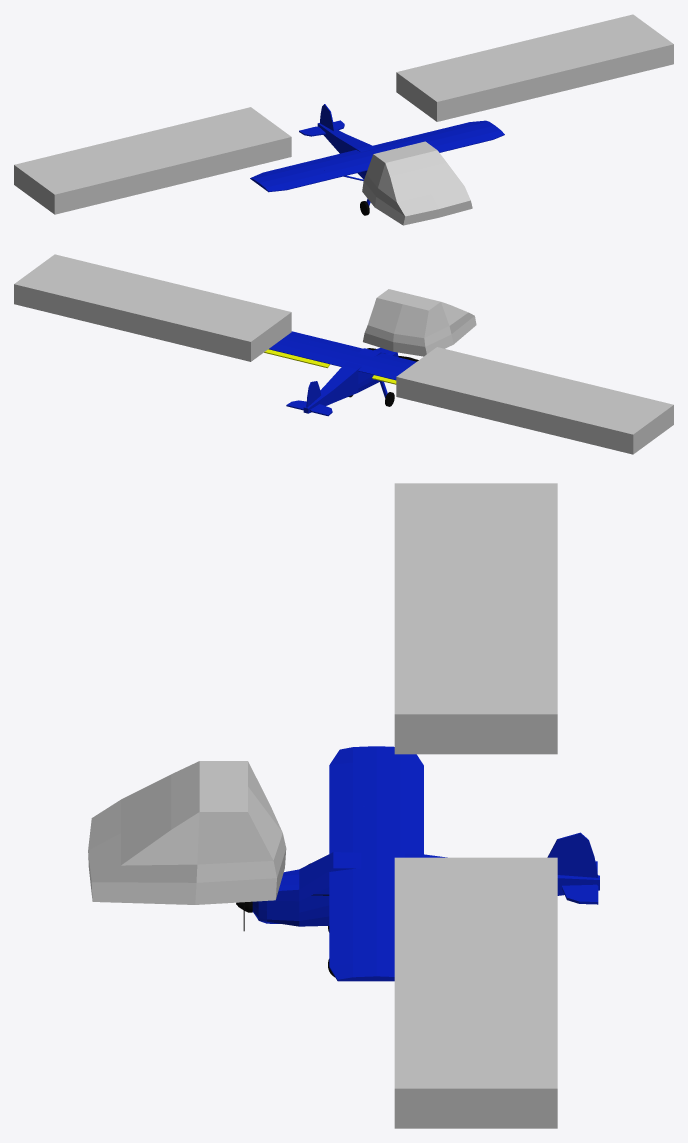
3 renders of one model, top to bottom at view 1: azimuth 30°, elevation 25°; view 2: azimuth 150°, elevation 25°; view 3: azimuth 270°, elevation 25°, orthographic. The views are drawn at different scales.
Parts seen in each view (by area): view 1: 立方体.014_立方体.020, 立方体.013_立方体.019, 立方体.008_立方体.014, 円柱; view 2: 立方体.013_立方体.019, 立方体.014_立方体.020, 円柱, 立方体.008_立方体.014; view 3: 立方体.013_立方体.019, 立方体.014_立方体.020, 円柱, 立方体.008_立方体.014.
Part boxes in pixels (x1,y1,x2,y2): 立方体.014_立方体.020: (14, 107, 291, 214); 立方体.013_立方体.019: (396, 14, 673, 121); 立方体.008_立方体.014: (362, 141, 472, 225); 円柱: (250, 104, 504, 215); 立方体.013_立方体.019: (14, 254, 291, 361); 立方体.014_立方体.020: (396, 347, 673, 454); 円柱: (264, 331, 418, 416); 立方体.008_立方体.014: (363, 289, 476, 356); 立方体.013_立方体.019: (394, 857, 557, 1128); 立方体.014_立方体.020: (394, 483, 557, 754); 円柱: (236, 746, 599, 981); 立方体.008_立方体.014: (88, 761, 286, 904).
Size of the model in its own units: 16.1 by 2.07 by 5.76.
